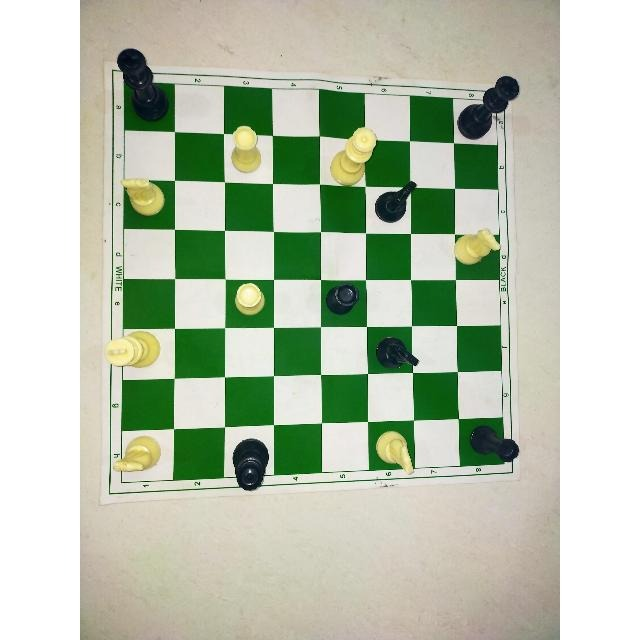black-king: (104, 38, 176, 133), (451, 67, 527, 148), (107, 38, 172, 132), (453, 70, 524, 146)
black-knight: (373, 174, 429, 235), (371, 174, 424, 232), (369, 325, 422, 381), (369, 327, 422, 378)
black-queen: (223, 428, 280, 508), (226, 432, 278, 503)
black-rook: (459, 414, 523, 480), (461, 415, 521, 477), (319, 275, 366, 331), (321, 274, 369, 325)
white-king: (98, 318, 179, 380), (103, 321, 175, 382)
white-knight: (104, 424, 174, 486), (106, 425, 170, 482), (451, 219, 509, 281), (369, 421, 422, 483), (370, 419, 420, 483), (451, 220, 503, 280), (115, 174, 176, 224), (117, 173, 169, 225)
white-queen: (321, 122, 393, 192), (323, 121, 389, 196)
white-rook: (226, 119, 269, 185), (226, 117, 268, 183), (224, 279, 272, 327), (226, 278, 269, 325)
